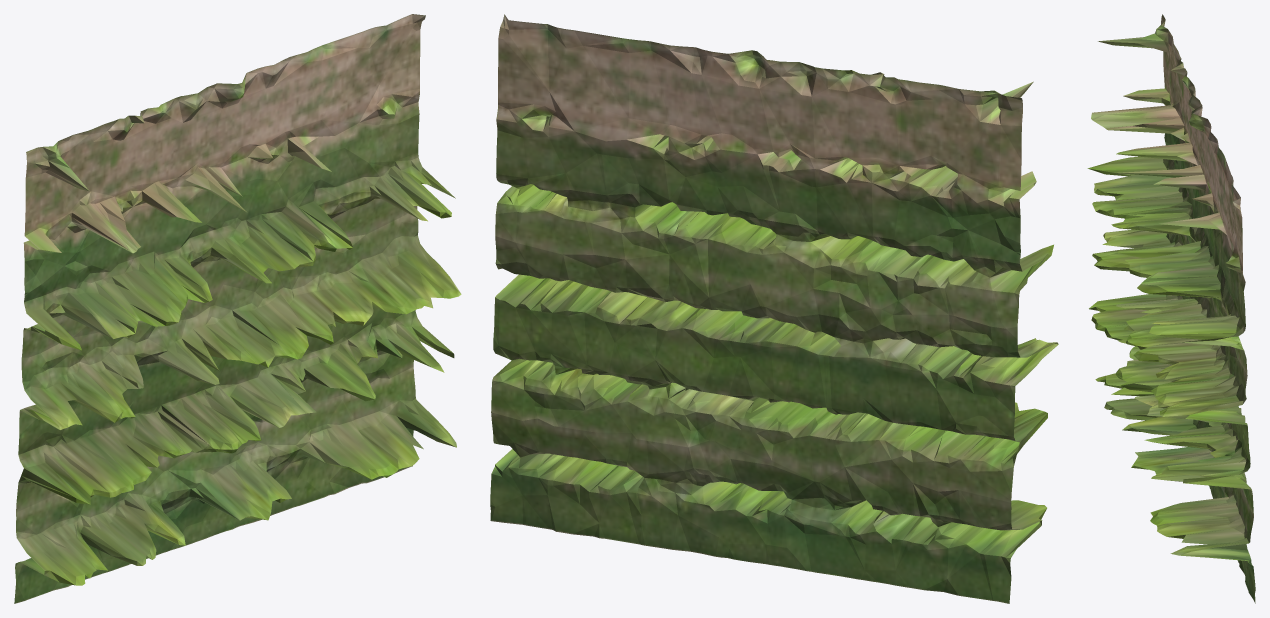
The model's file is map_150_20.obj.
The picture shows the model from 3 angles, left to right: view 1: azimuth 30°, elevation 25°; view 2: azimuth 150°, elevation 25°; view 3: azimuth 270°, elevation 25°; orthographic projection. The views are drawn at different scales.
Parts seen in each view (by area): view 1: grp1; view 2: grp1; view 3: grp1.
Boxes of the visible parts, left/top/right/bottom form: grp1: left=14, top=14, right=461, bottom=603; grp1: left=490, top=14, right=1058, bottom=603; grp1: left=1087, top=14, right=1255, bottom=603.
Bounding box in the file's own units: 10 × 10 × 3.79.
Materials: 1 (1 with a texture image).
